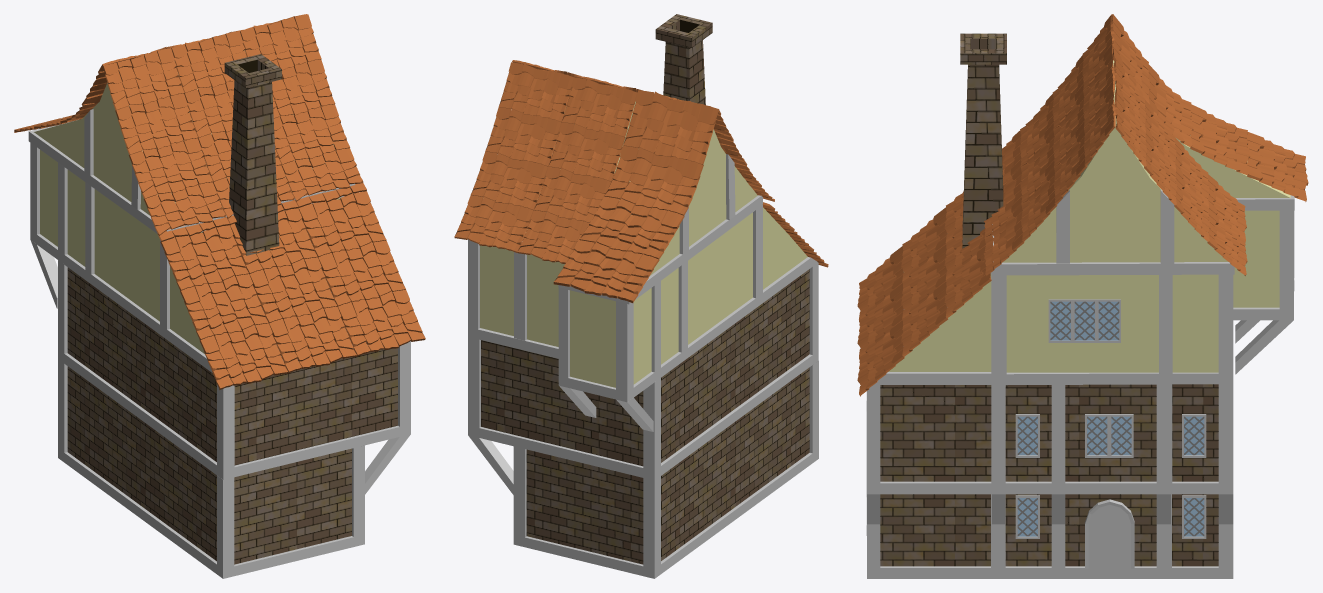
The model's file is BlackSmith_V5.fbx.
3 renders of one model, left to right at view 1: azimuth 30°, elevation 25°; view 2: azimuth 150°, elevation 25°; view 3: azimuth 270°, elevation 25°, orthographic. The views are drawn at different scales.
Visible parts, largest first — view 1: TownBuilding_3; view 2: TownBuilding_3; view 3: TownBuilding_3.
Boxes of the visible parts, x1,y1,x2,y2 form: TownBuilding_3: (14,14,425,578); TownBuilding_3: (454,14,828,578); TownBuilding_3: (857,14,1308,578).
Bounding box in the file's own units: 557 × 1149 × 933.
